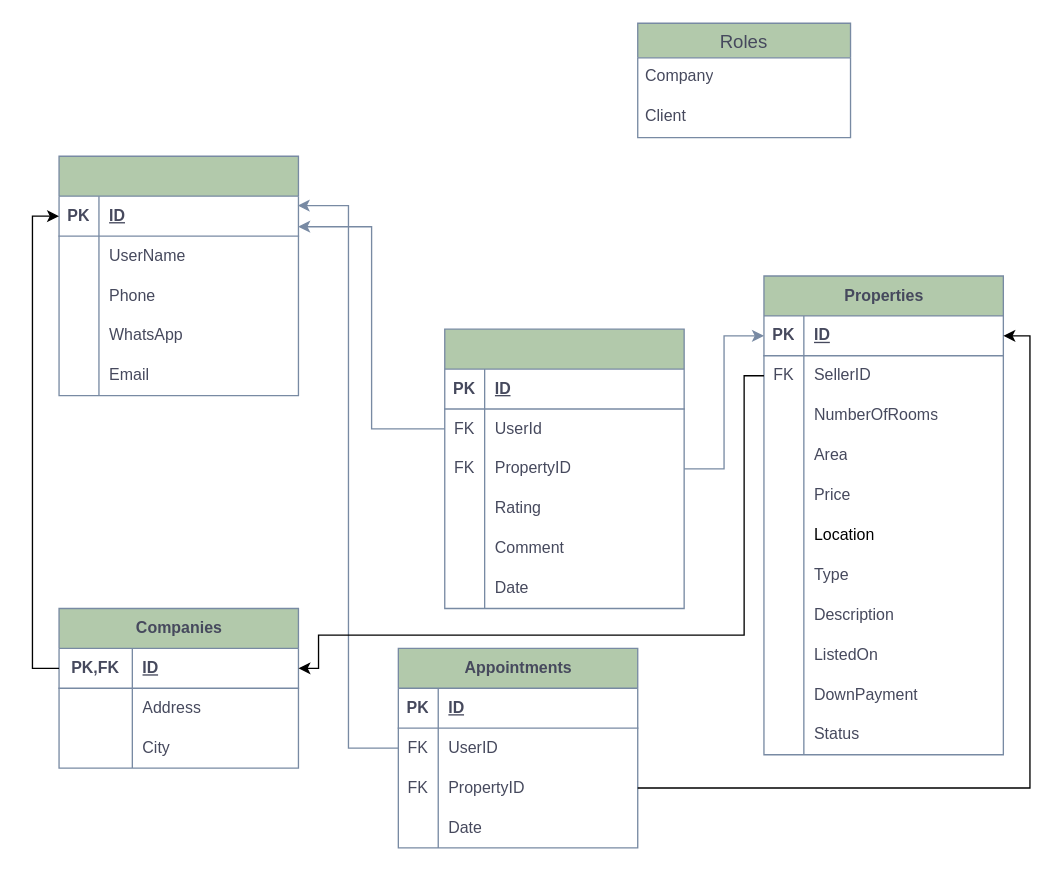
This 1064x871 diagram has some shape labels left out. The shapes that lost their labels are listed below. From the top down, each one's box as (x1, y1, x2, y2) in pixels, then its label:
(58, 155, 298, 396): Users
(443, 328, 684, 608): Reviews
